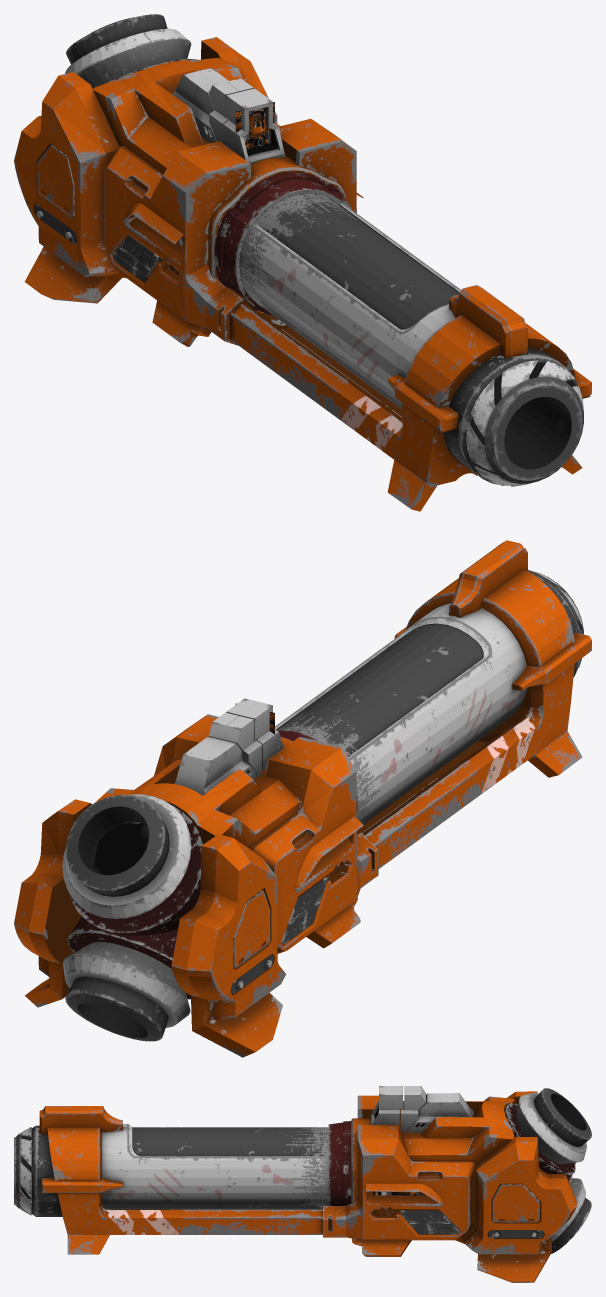
Rendered from rocket_launcher.obj.
The picture shows the model from 3 angles, top to bottom: view 1: azimuth 30°, elevation 25°; view 2: azimuth 150°, elevation 25°; view 3: azimuth 270°, elevation 25°; orthographic projection. The views are drawn at different scales.
Parts seen in each view (by area): view 1: Cube, Cube.002, Cube.001, Circle.001, Circle, Circle.004, Circle.009, Cube.007, Circle.008, Circle.005, Cube.005, Circle.003 (+5 smaller); view 2: Circle.009, Cube.001, Cube, Cube.002, Circle.001, Circle, Cube.007, Cube.005, Cube.006, Cube.010, Cube.004; view 3: Cube, Circle.001, Cube.002, Cube.001, Circle.009, Circle, Cube.007, Cube.005, Circle.008, Circle.005, Cube.010, Cube.006 (+6 smaller).
Boxes of the visible parts, box(x1,y1,x2,y2) form: Cube: box(92, 57, 356, 346); Cube.002: box(224, 303, 582, 511); Cube.001: box(14, 37, 277, 303); Circle.001: box(239, 199, 461, 409); Circle: box(256, 193, 459, 329); Circle.004: box(484, 376, 583, 483); Circle.009: box(65, 14, 197, 87); Cube.007: box(172, 68, 284, 164); Circle.008: box(444, 348, 577, 484); Circle.005: box(223, 178, 351, 315); Cube.005: box(449, 285, 527, 357); Circle.003: box(466, 360, 583, 486); Circle.009: box(62, 794, 202, 1041); Cube.001: box(14, 799, 286, 1057); Cube: box(95, 714, 378, 953); Cube.002: box(357, 569, 582, 868); Circle.001: box(275, 603, 527, 824); Circle: box(276, 624, 483, 756); Cube.007: box(174, 698, 283, 795); Cube.005: box(449, 540, 527, 617); Cube.006: box(394, 627, 591, 690); Cube.010: box(281, 877, 327, 944); Cube.004: box(295, 816, 363, 890); Cube: box(323, 1095, 515, 1256); Circle.001: box(102, 1124, 328, 1209); Cube.002: box(47, 1127, 332, 1254); Cube.001: box(463, 1091, 576, 1282); Circle.009: box(504, 1088, 591, 1253); Circle: box(132, 1127, 328, 1156); Cube.007: box(370, 1086, 474, 1133); Cube.005: box(39, 1106, 122, 1134); Circle.008: box(31, 1125, 62, 1216); Circle.005: box(328, 1122, 343, 1205); Cube.010: box(400, 1210, 459, 1234); Cube.006: box(41, 1177, 122, 1192).
Bounding box in the file's own units: 0.3113 × 0.3136 × 1.03.
